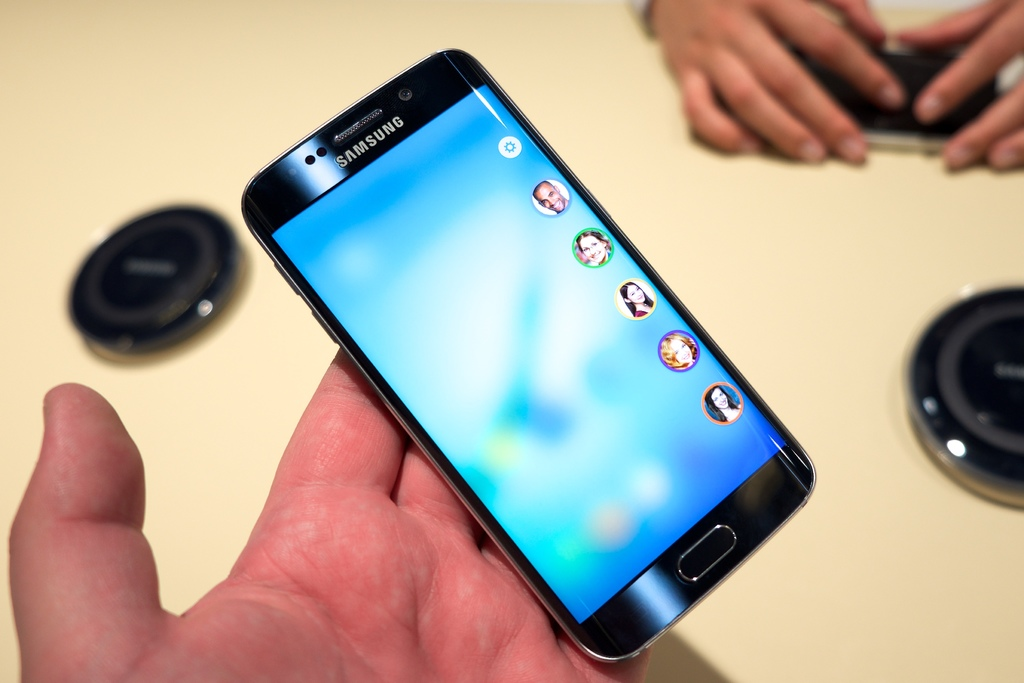mobile phone: (238, 39, 816, 668)
